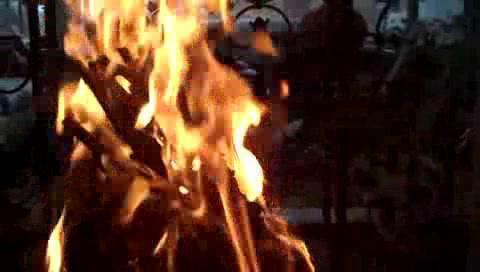fire: (21, 1, 323, 269)
